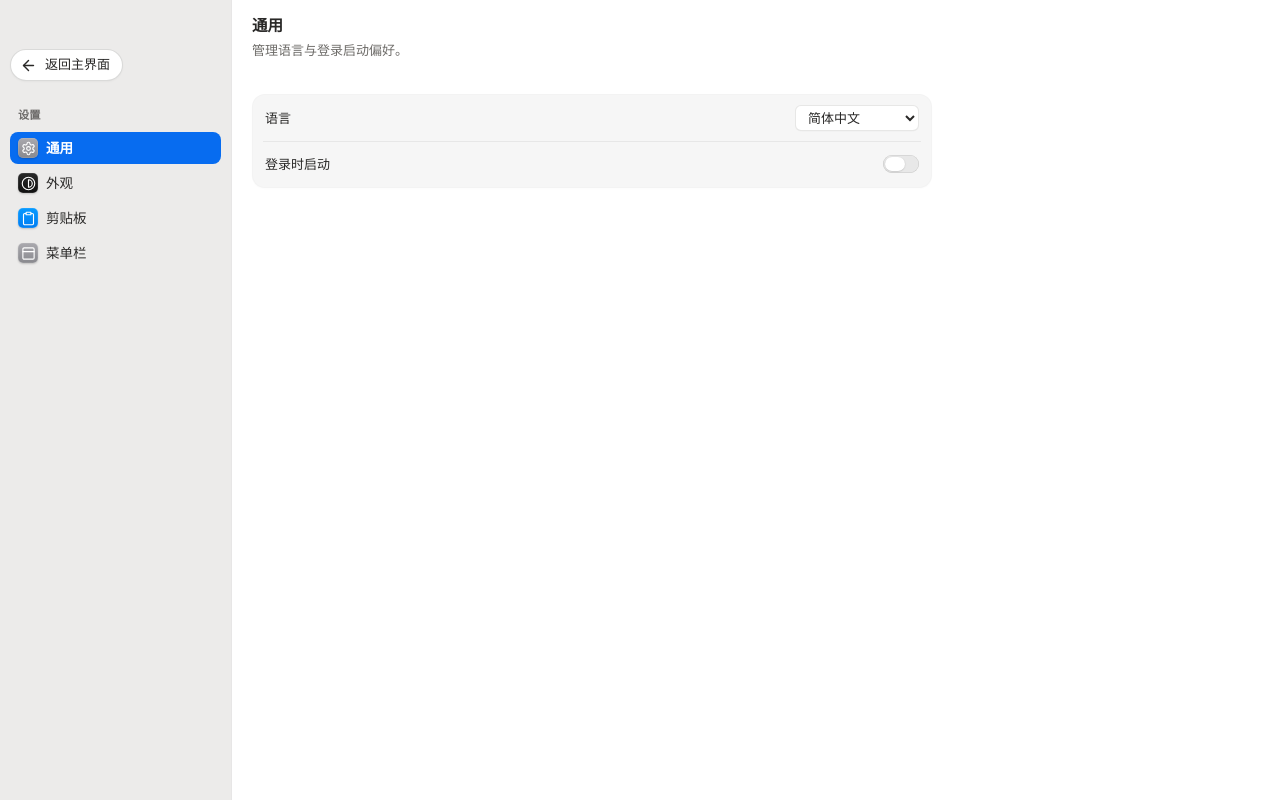
Test: SettingsView › contains confirmation focus and restores it when Escape cancels clearing
Click the button "剪贴板" at (116, 218), box [10,202,221,234]
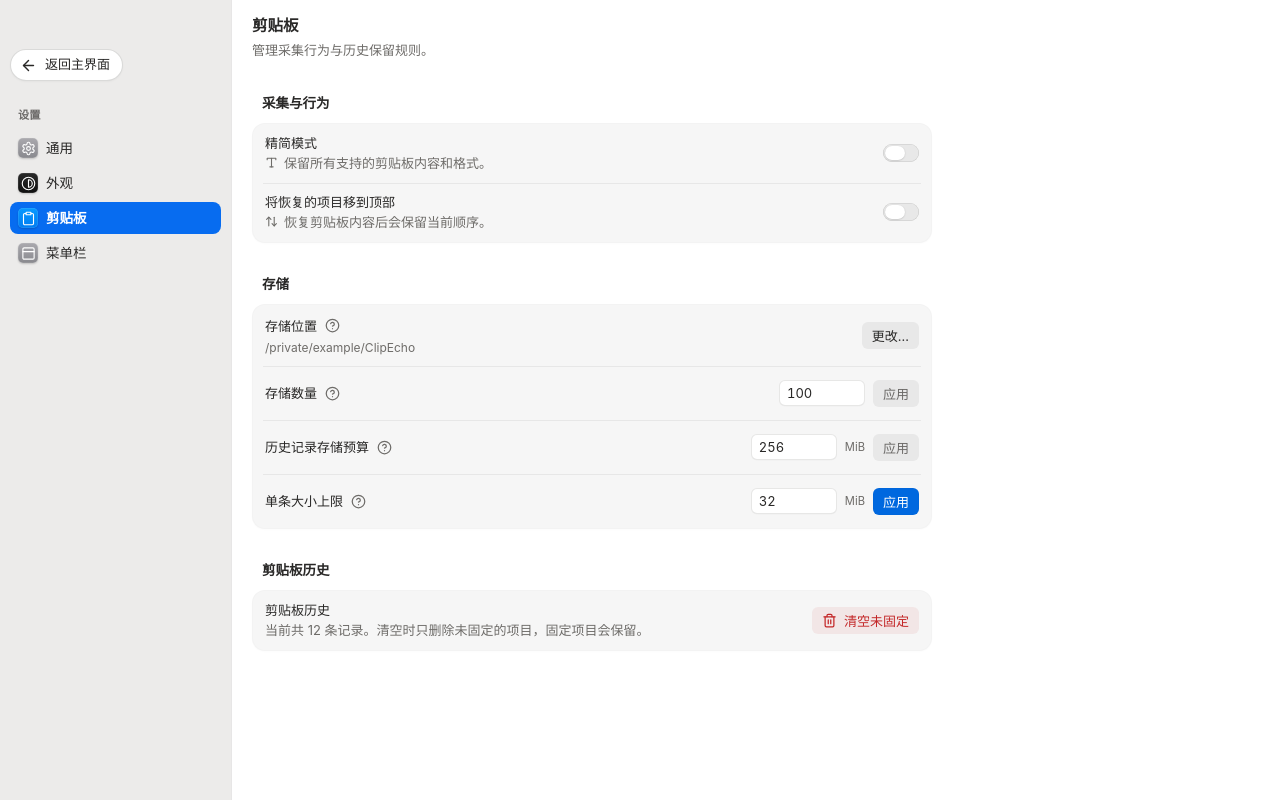
Click the button with class "settings-clear-button" at (866, 621), box [812,607,919,634]
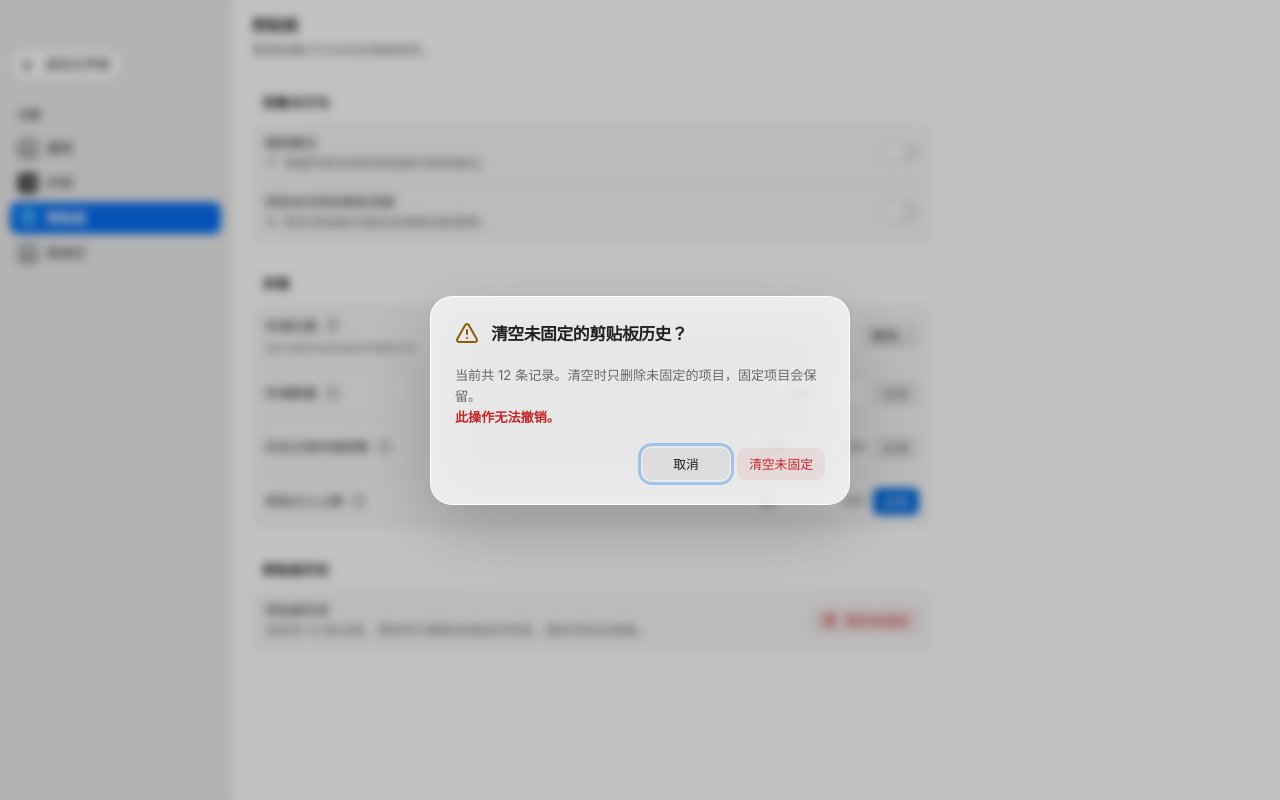
Expected: the element with class "settings-shell" has attribute inert
Press Tab in the button "取消", box [643,448,729,480]
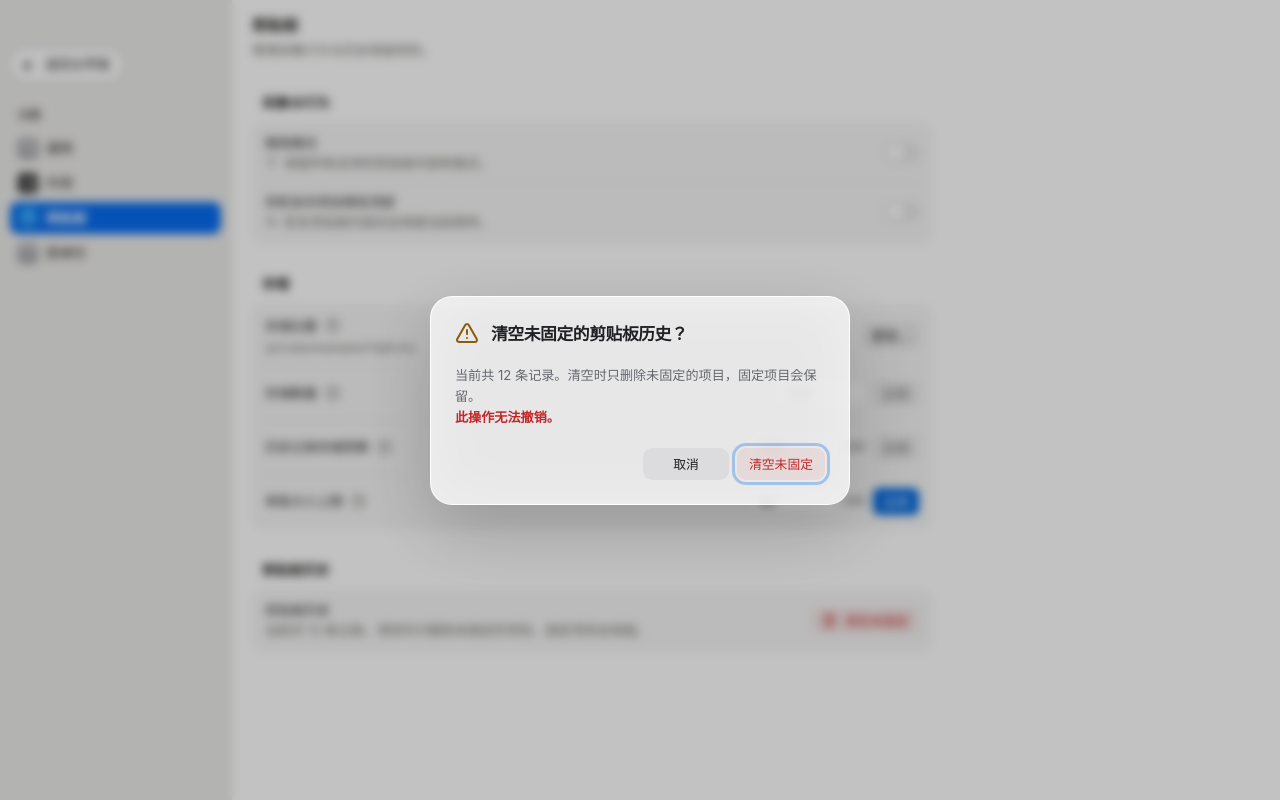
Press Tab in the button "清空未固定", box [737,448,825,480]
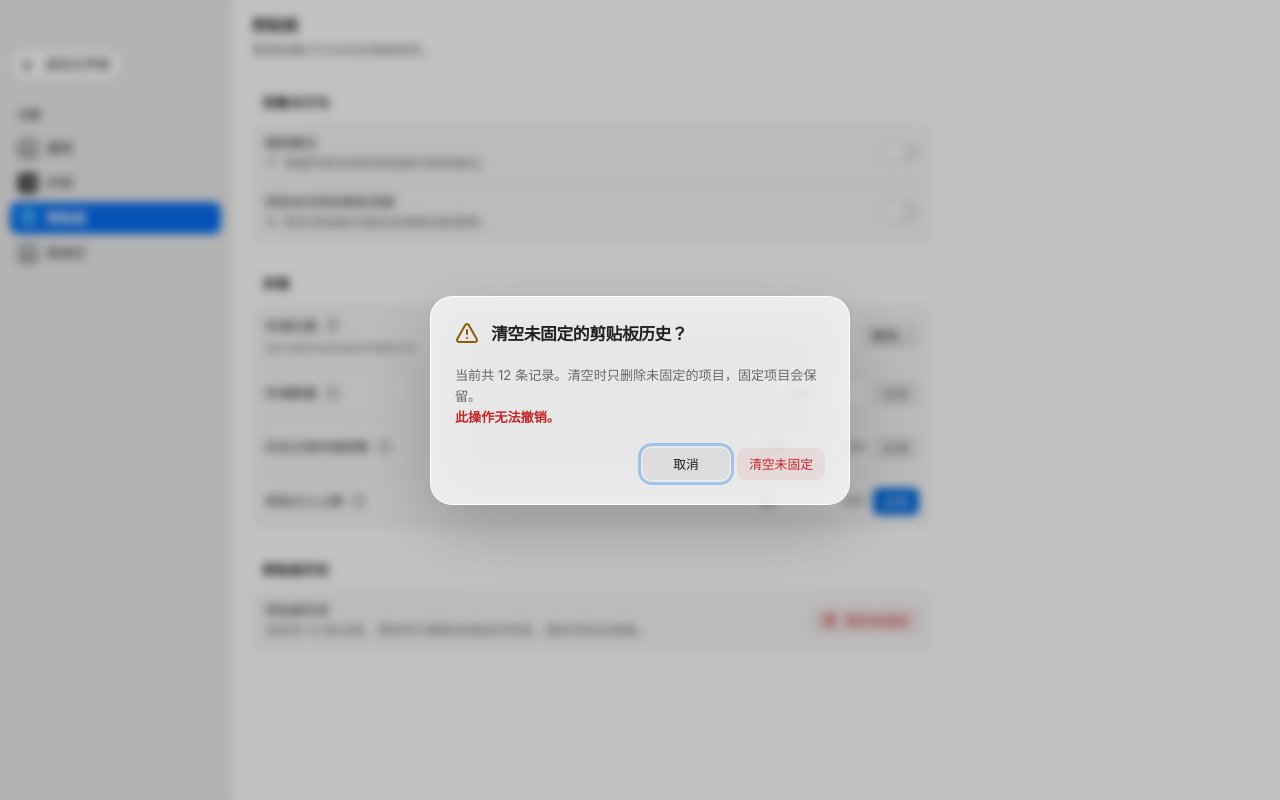
Press Escape in the button "取消", box [643,448,729,480]
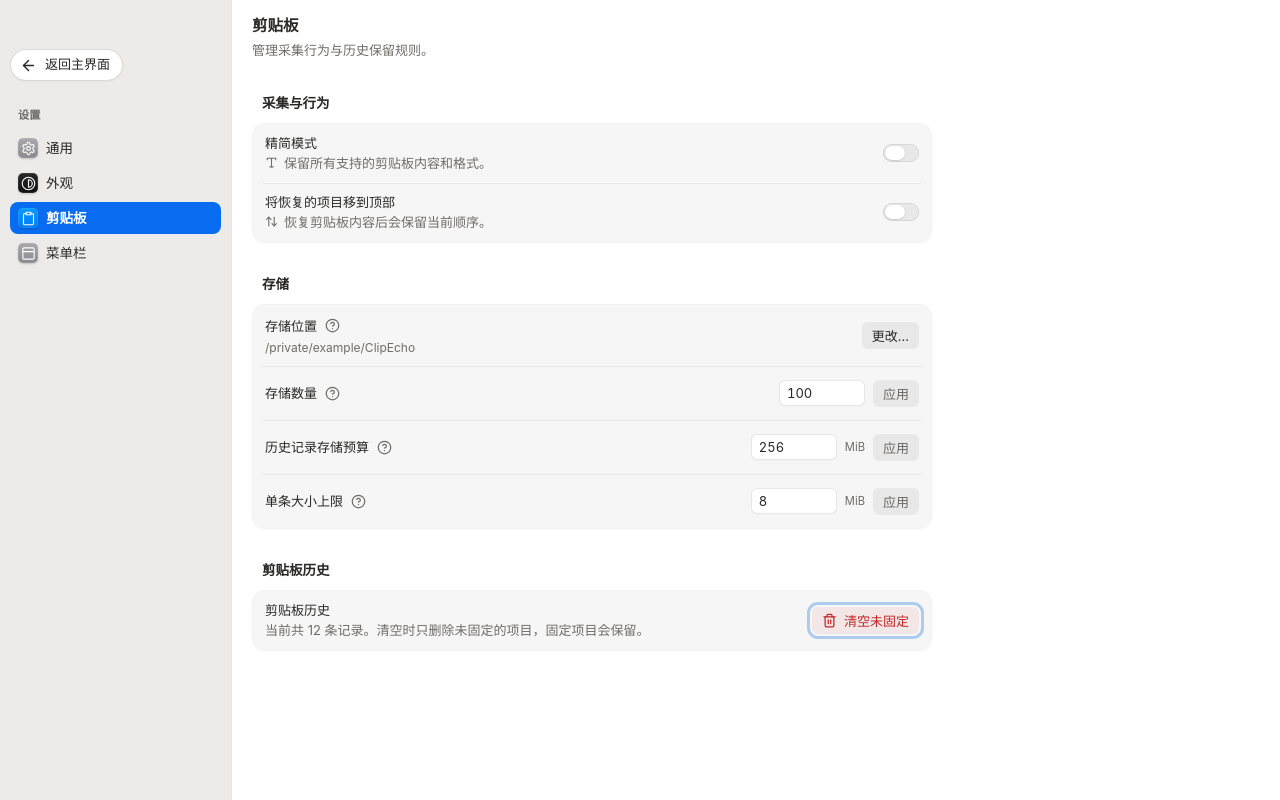
Expected: the dialog is gone
